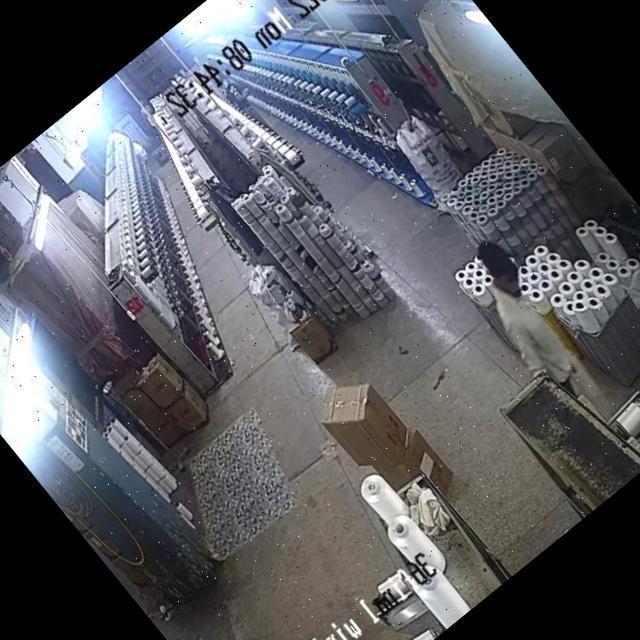person: (462, 242, 592, 388), (218, 73, 268, 131)
